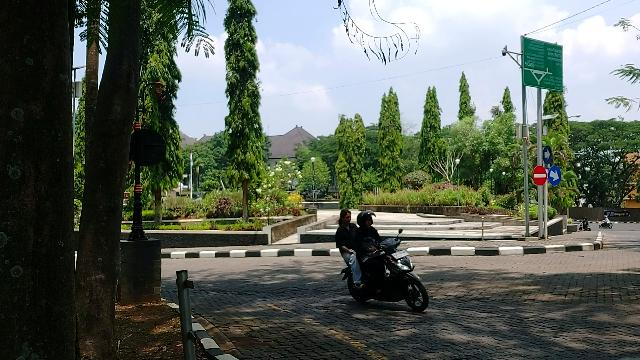helm: (357, 210, 378, 230)
motor: (342, 229, 431, 315)
non-helm: (338, 210, 354, 228)
